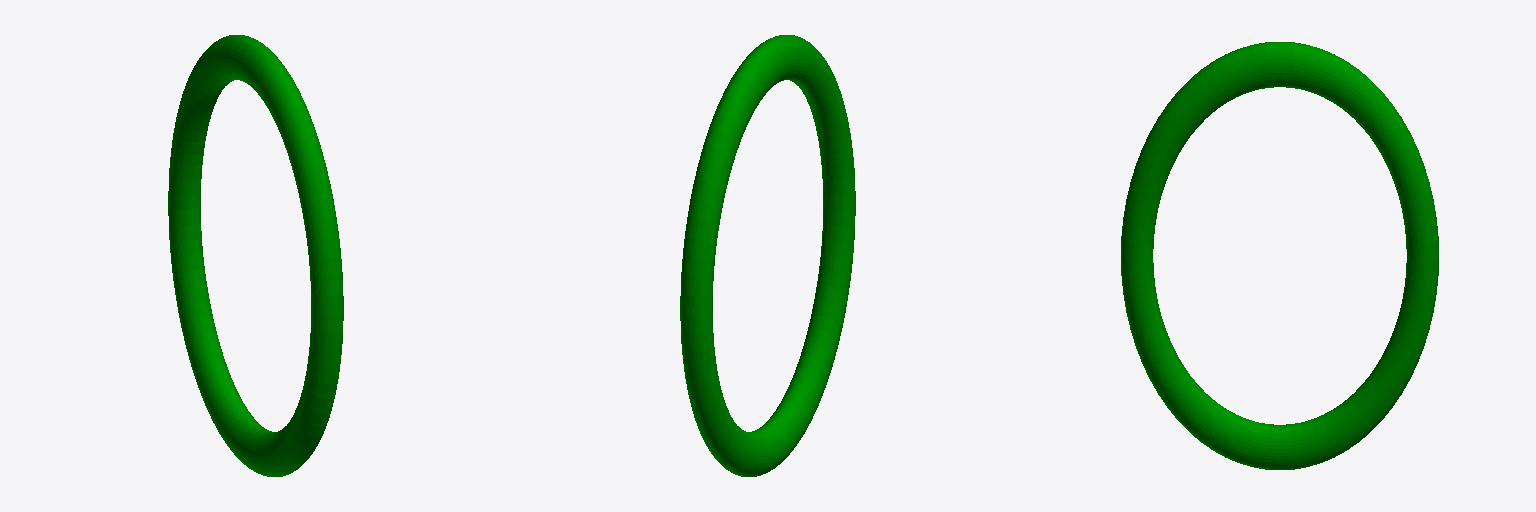
3 views of the same model, side by side, from view 1: azimuth 30°, elevation 25°; view 2: azimuth 150°, elevation 25°; view 3: azimuth 270°, elevation 25° (orthographic).
Parts seen in each view (by area): view 1: main; view 2: main; view 3: main.
Boxes of the visible parts, x1=… form: main: x1=168, y1=35, x2=343, y2=476; main: x1=680, y1=35, x2=855, y2=476; main: x1=1121, y1=42, x2=1438, y2=469.
Size of the model in its own units: 0.4823 by 7.02 by 4.74.